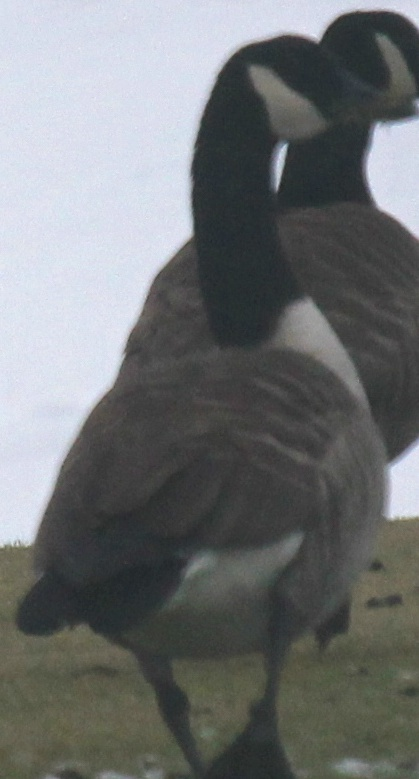goose: (21, 29, 367, 777), (145, 3, 419, 635)
